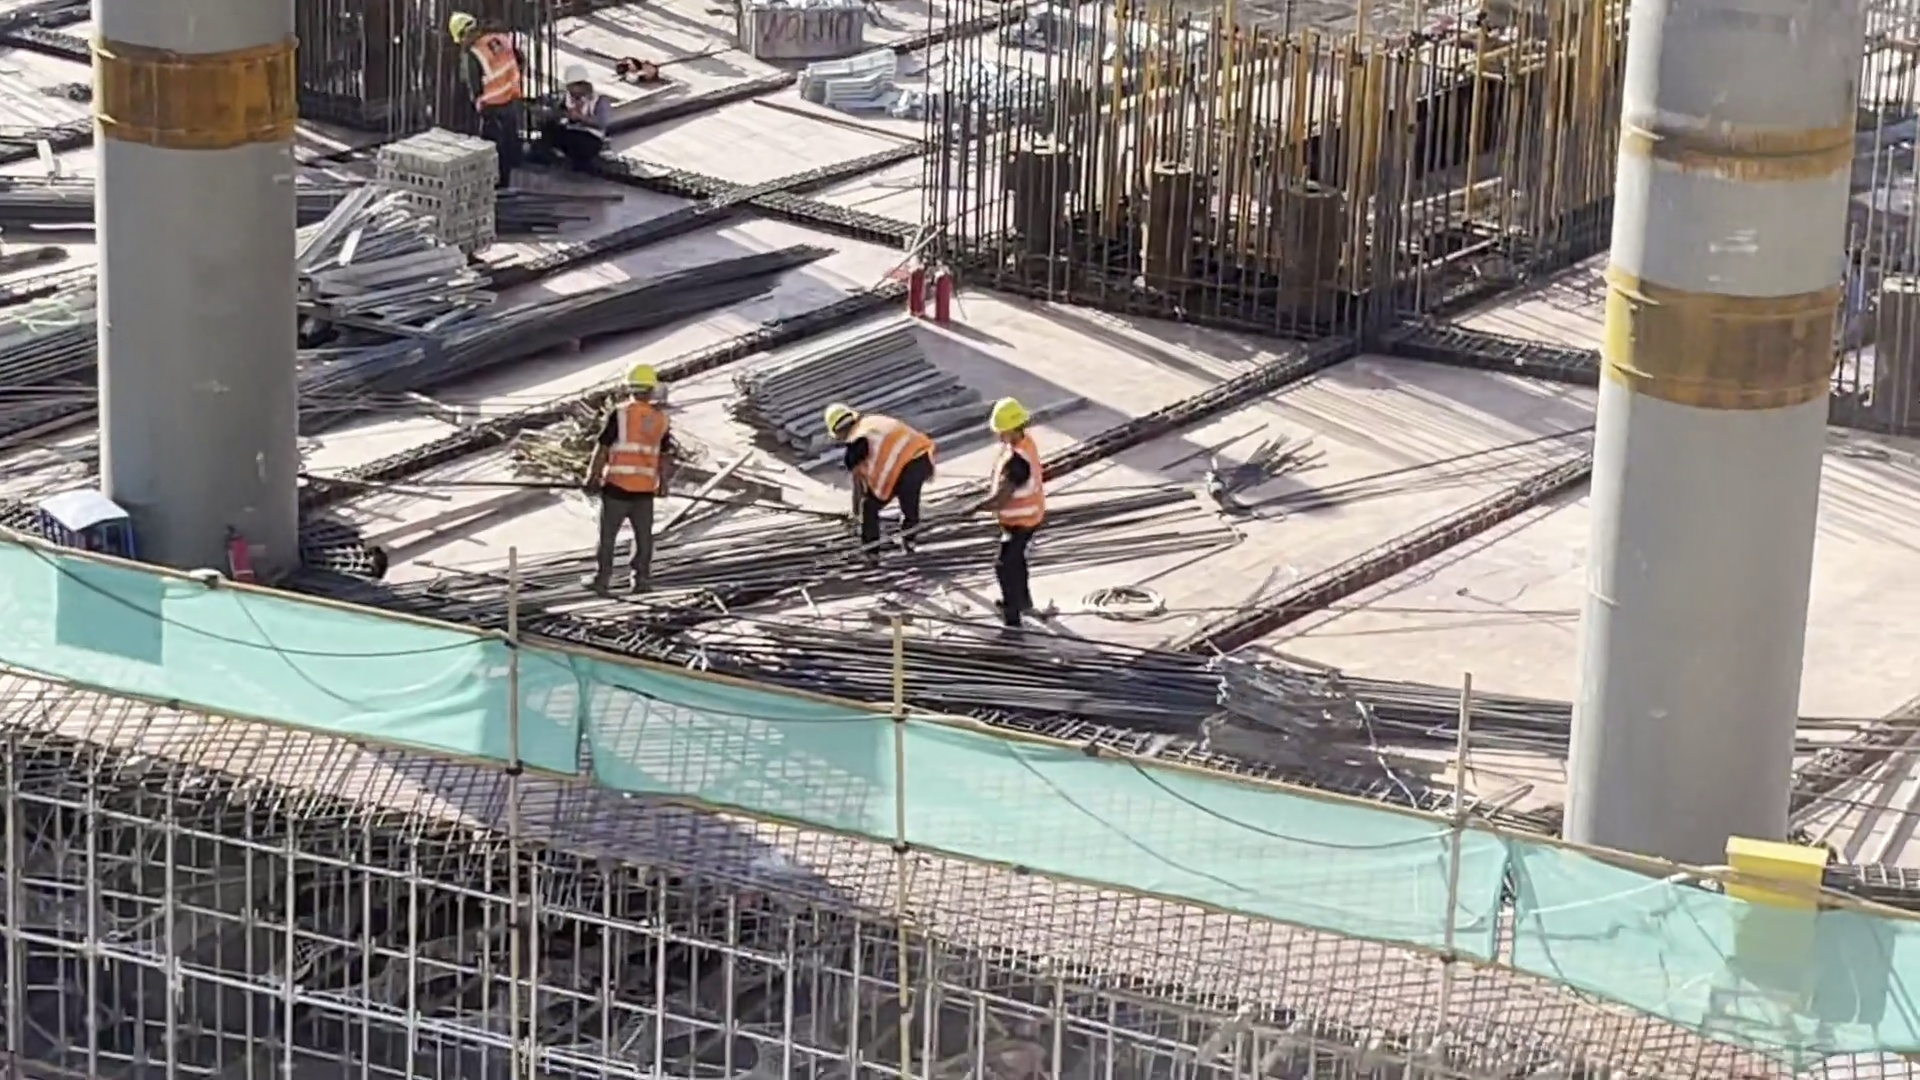helmet: (983, 397, 1029, 437), (815, 398, 857, 438), (620, 352, 653, 394), (438, 9, 478, 41), (565, 57, 592, 79)
person: (806, 387, 929, 569), (980, 378, 1054, 620), (441, 8, 532, 182), (596, 365, 669, 564), (559, 60, 606, 164)
vest: (596, 386, 671, 505), (846, 412, 927, 508), (990, 441, 1060, 542), (465, 42, 534, 108)
